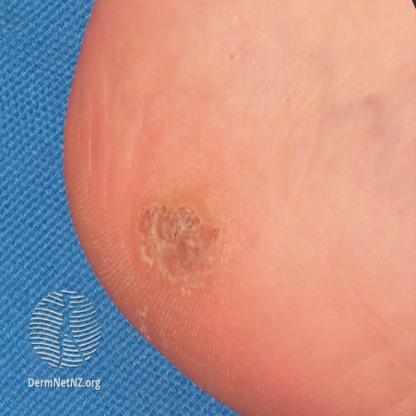Warts: (128, 181, 235, 302)
